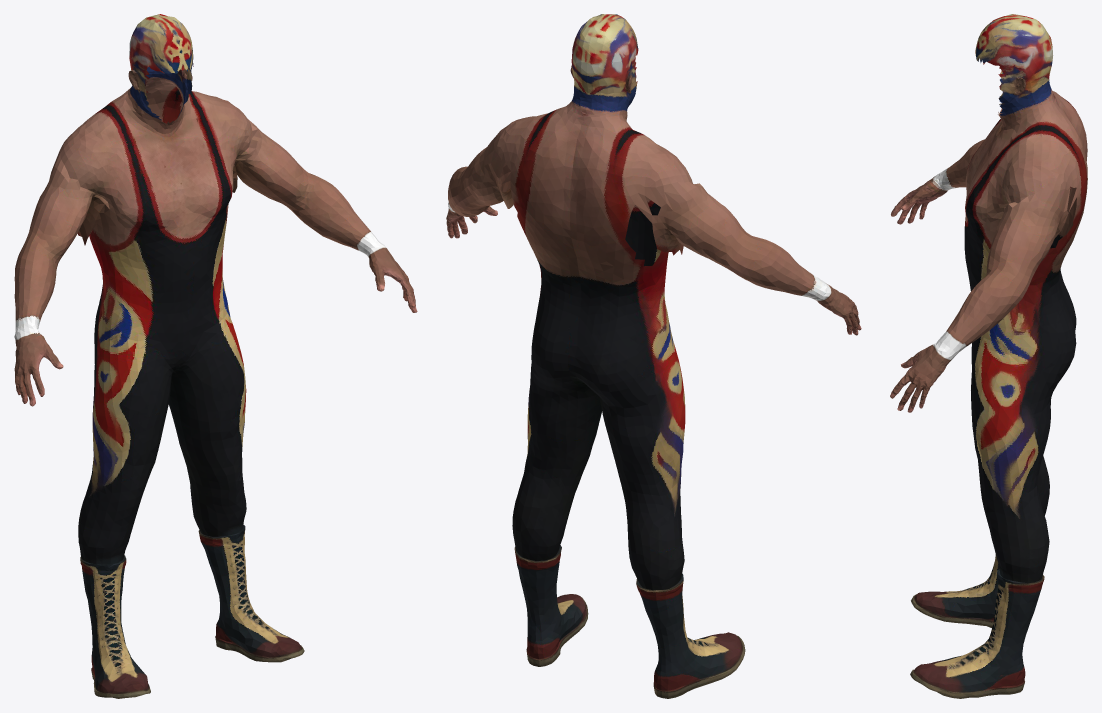
Rendered from ewm_t2luchador_outfit.glb.
3 views of the same model, side by side, from view 1: azimuth 30°, elevation 25°; view 2: azimuth 150°, elevation 25°; view 3: azimuth 270°, elevation 25° (orthographic). The views are drawn at different scales.
Parts seen in each view (by area): view 1: ewm_t2luchador_outfit; view 2: ewm_t2luchador_outfit; view 3: ewm_t2luchador_outfit.
Boxes of the visible parts, x1,y1,x2,y2 form: ewm_t2luchador_outfit: (14, 14, 417, 698); ewm_t2luchador_outfit: (446, 14, 861, 698); ewm_t2luchador_outfit: (890, 14, 1087, 698).
Size of the model in its own units: 1.22 by 1.9 by 0.5332.
Materials: 1 (1 with a texture image).
